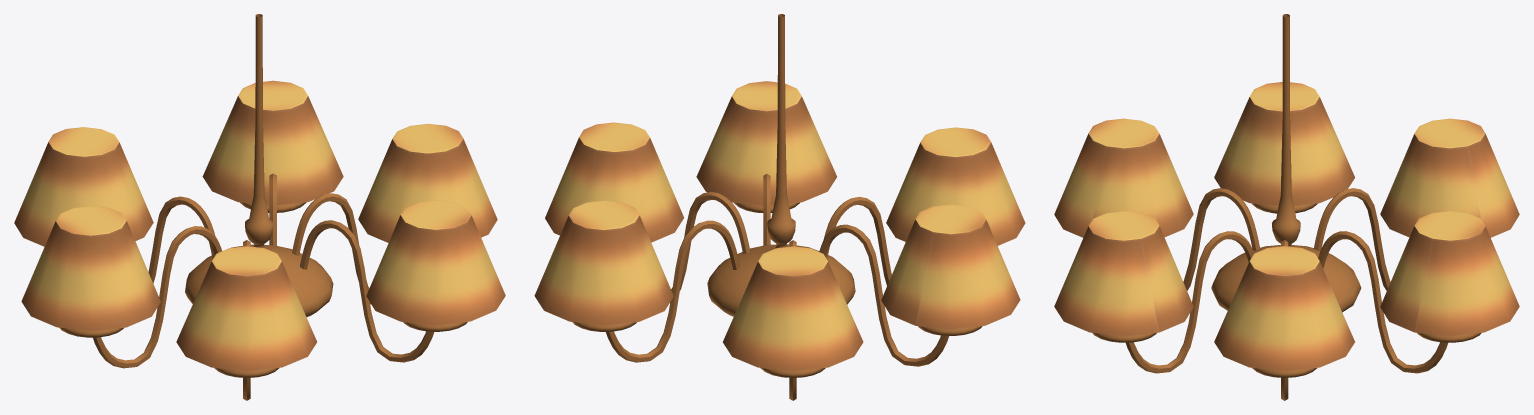
Rendered from TopLamp.FBX.
The picture shows the model from 3 angles, left to right: view 1: azimuth 30°, elevation 25°; view 2: azimuth 150°, elevation 25°; view 3: azimuth 270°, elevation 25°; orthographic projection.
Visible parts, largest first — view 1: TopLamp; view 2: TopLamp; view 3: TopLamp.
Part boxes in pixels (bbox=[...]): TopLamp: bbox=[14, 14, 505, 400]; TopLamp: bbox=[534, 14, 1025, 400]; TopLamp: bbox=[1054, 14, 1519, 400].
Bounding box in the file's own units: 30.9 × 20.72 × 27.24.
Materials: 3 (1 with a texture image).
